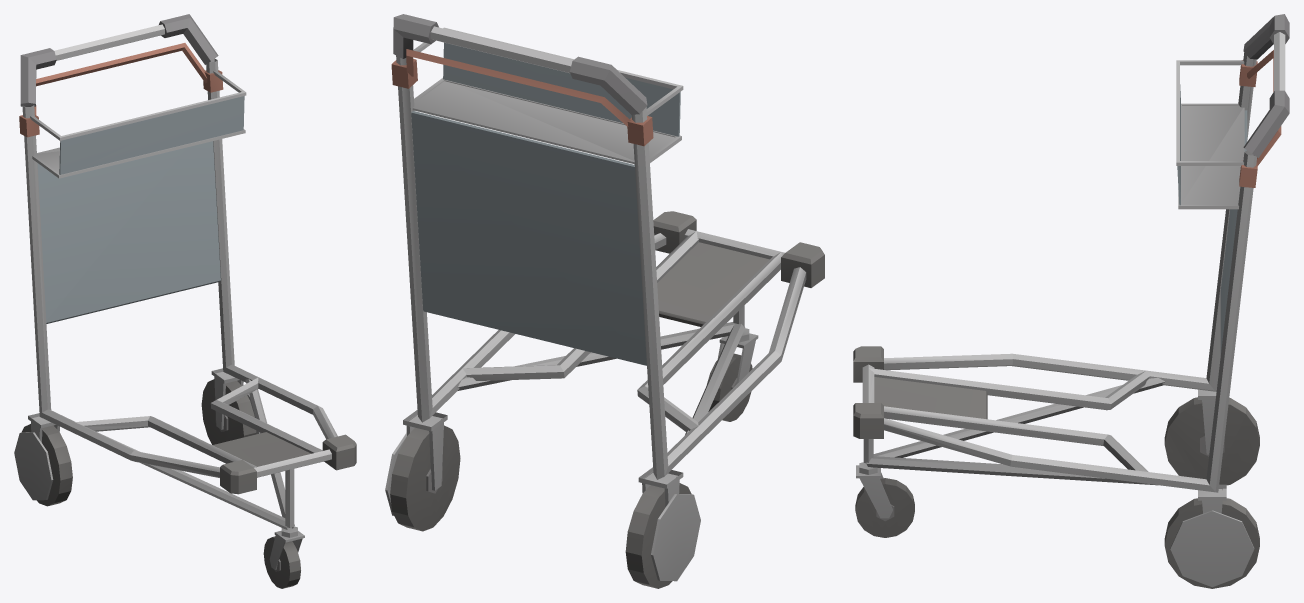
Rendered from trolley.glb.
3 renders of one model, left to right at view 1: azimuth 30°, elevation 25°; view 2: azimuth 150°, elevation 25°; view 3: azimuth 270°, elevation 25°, orthographic. The views are drawn at different scales.
Visible parts, largest first — view 1: trolley; view 2: trolley; view 3: trolley.
Part boxes in pixels (bbox=[...]): trolley: bbox=[14, 14, 356, 588]; trolley: bbox=[385, 14, 824, 588]; trolley: bbox=[853, 14, 1289, 588].
Size of the model in its own units: 0.569 by 1.1 by 0.9139.
